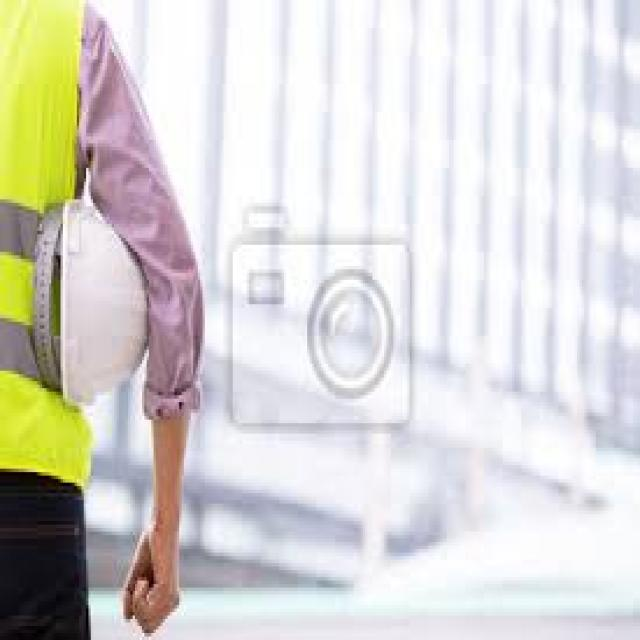Reflective-Jacket: (1, 1, 102, 500)
Safety-Helmet: (38, 181, 166, 411)
